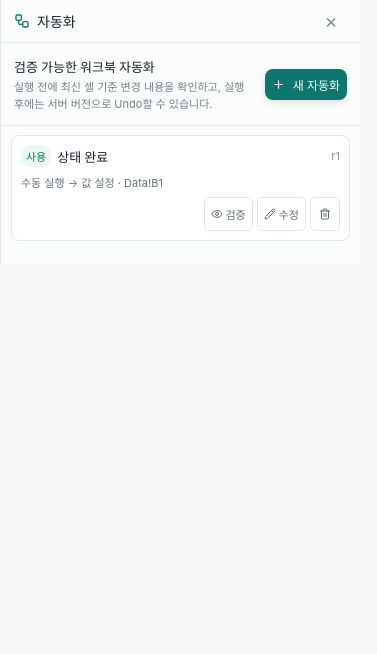
AutomationPanel › blocks execution when preparing pending edits advances the workbook version
The image size is (377, 654).
Click the button "검증". click: (228, 214)
box: [204,197,253,231]
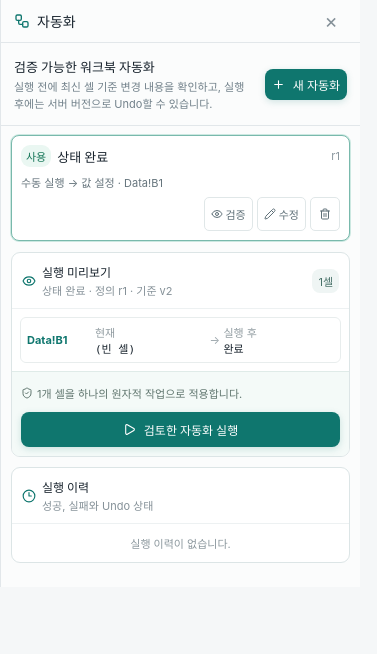
Click the button "검토한 자동화 실행". click: (180, 430)
box: [21,412,340,447]
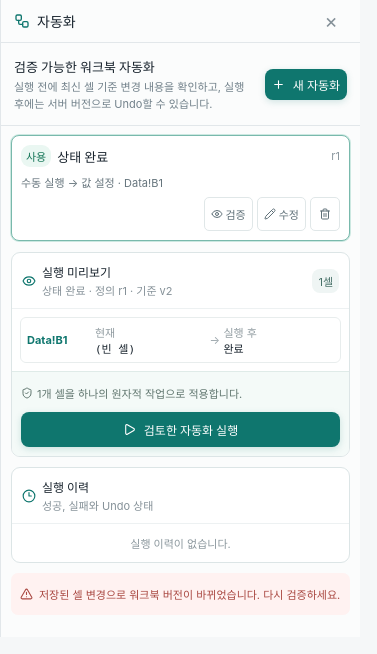
Expected: the text "저장된 셀 변경으로 워크북 버전이 바뀌었습니다. 다시 검증하세요." is shown, [39,586,341,602]
